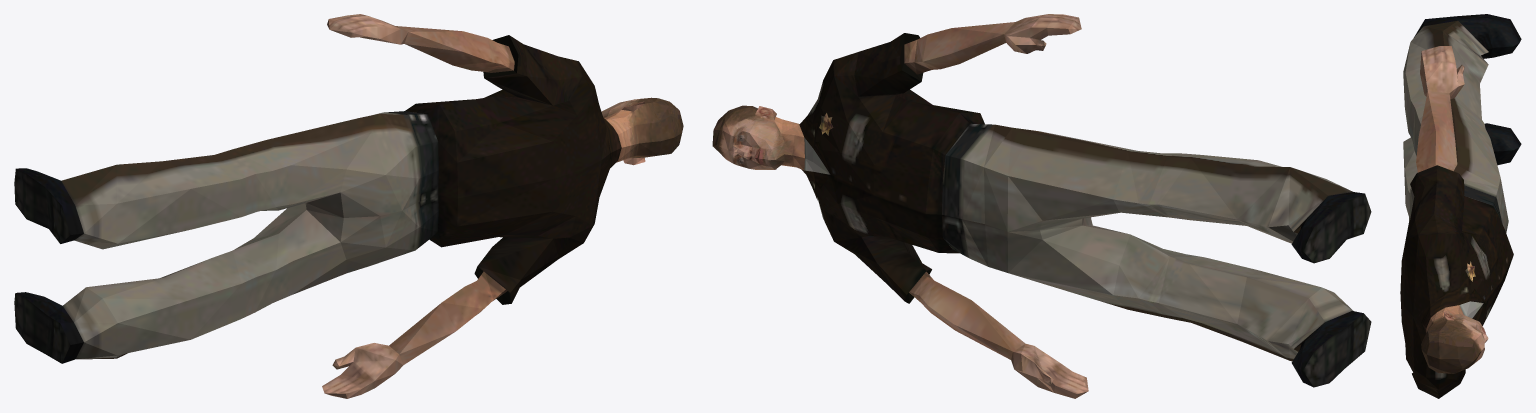
The model's file is csherna.obj.
The picture shows the model from 3 angles, left to right: view 1: azimuth 30°, elevation 25°; view 2: azimuth 150°, elevation 25°; view 3: azimuth 270°, elevation 25°; orthographic projection. The views are drawn at different scales.
Parts seen in each view (by area): view 1: noname_0; view 2: noname_0; view 3: noname_0.
Part boxes in pixels (x1,y1,x2,y2): noname_0: (14,14,683,398); noname_0: (712,14,1371,398); noname_0: (1400,14,1521,398).
Size of the model in its own units: 1.83 by 1.03 by 0.3476.
Materials: 1 (1 with a texture image).
